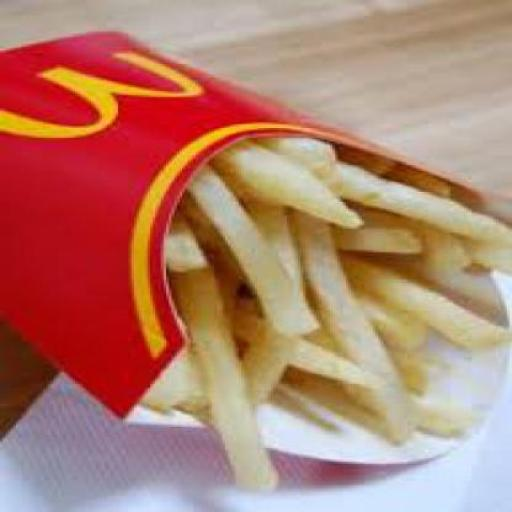biodegradable: (176, 263, 278, 491), (184, 162, 318, 334), (332, 158, 510, 248), (230, 298, 389, 390), (215, 136, 367, 227), (289, 364, 469, 437), (349, 263, 504, 347), (324, 324, 424, 442), (396, 174, 464, 272), (234, 294, 288, 408), (375, 302, 432, 396), (265, 132, 343, 186), (155, 204, 207, 274), (171, 345, 212, 419), (332, 218, 416, 250), (466, 229, 510, 277), (142, 372, 180, 410)
cardboard: (0, 29, 510, 462), (0, 29, 177, 433), (160, 64, 474, 186)
